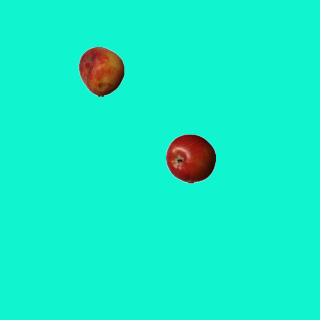Apple Braeburn: (165, 133, 215, 183)
Peach: (76, 46, 126, 96)
